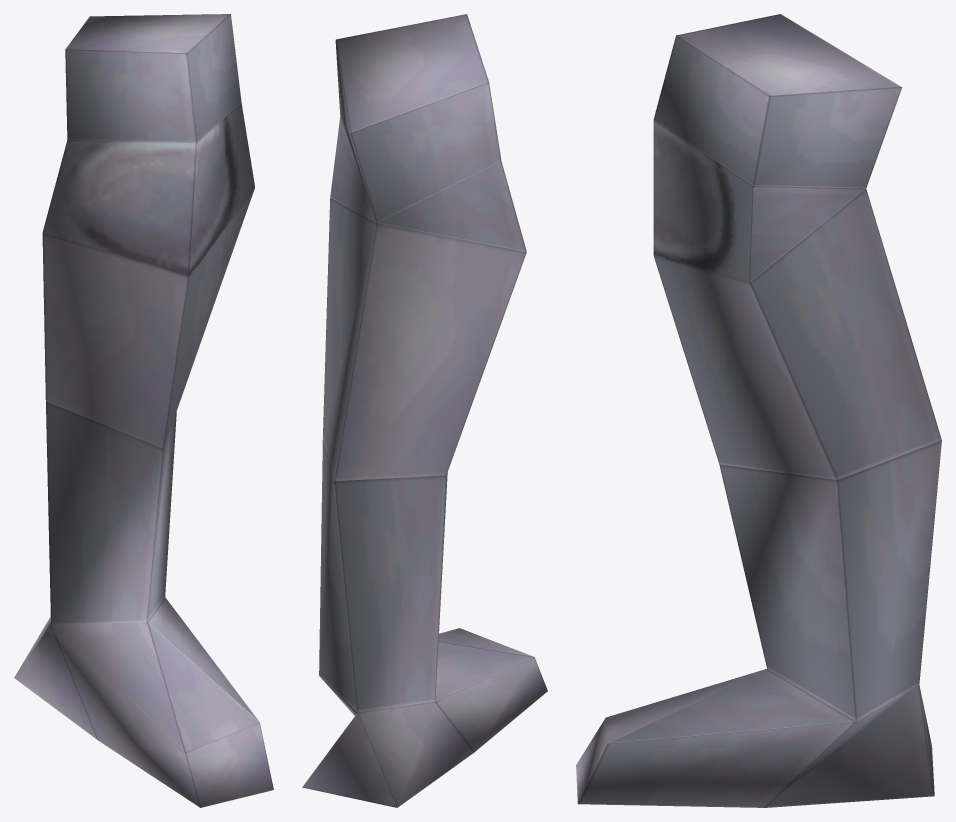
3 views of the same model, side by side, from view 1: azimuth 30°, elevation 25°; view 2: azimuth 150°, elevation 25°; view 3: azimuth 270°, elevation 25° (orthographic). The views are drawn at different scales.
Visible parts, largest first — view 1: T1L4M009_15; view 2: T1L4M009_15; view 3: T1L4M009_15.
Boxes of the visible parts, x1,y1,x2,y2 form: T1L4M009_15: (14,14,273,807); T1L4M009_15: (302,14,547,807); T1L4M009_15: (576,14,941,807).
Bounding box in the file's own units: 0.2705 × 0.8945 × 0.3965.
